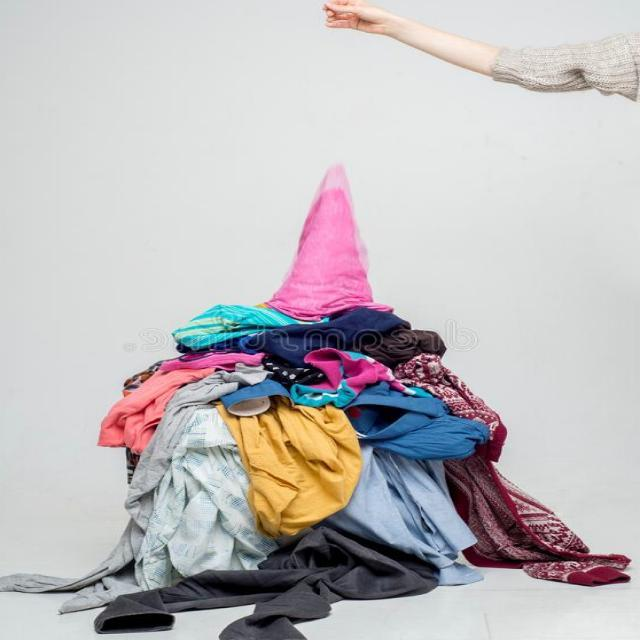clothes: (144, 270, 433, 634)
